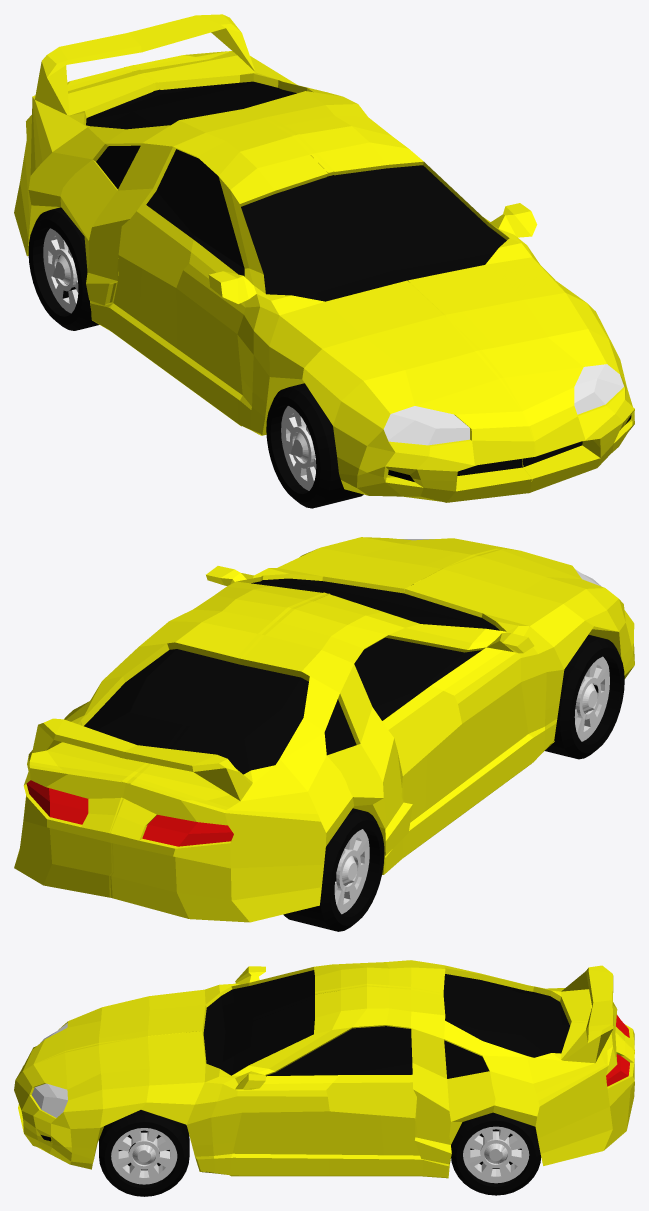
Rendered from SUPRAEND.fbx.
3 renders of one model, top to bottom at view 1: azimuth 30°, elevation 25°; view 2: azimuth 150°, elevation 25°; view 3: azimuth 270°, elevation 25°, orthographic. The views are drawn at different scales.
Visible parts, largest first — view 1: Плоскость, Цилиндр.003, Цилиндр.002; view 2: Плоскость, Цилиндр.003, Цилиндр.002; view 3: Плоскость, Цилиндр, Цилиндр.001.
Part boxes in pixels (bbox=[...]): Плоскость: bbox=[14, 14, 634, 502]; Цилиндр.003: bbox=[266, 383, 363, 508]; Цилиндр.002: bbox=[28, 207, 99, 330]; Плоскость: bbox=[14, 537, 634, 922]; Цилиндр.003: bbox=[545, 634, 624, 759]; Цилиндр.002: bbox=[283, 808, 384, 931]; Плоскость: bbox=[14, 960, 634, 1178]; Цилиндр: bbox=[99, 1110, 189, 1196]; Цилиндр.001: bbox=[451, 1112, 541, 1195].
Size of the model in its own units: 182 by 122 by 422.
